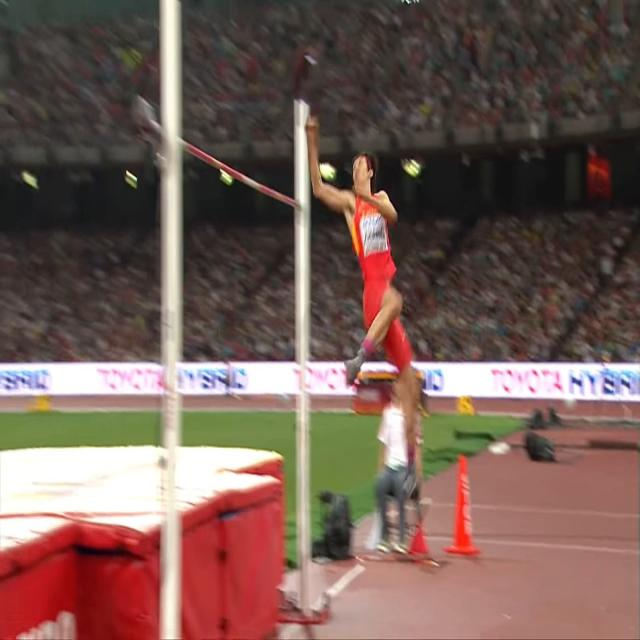jump: (306, 117, 423, 524)
